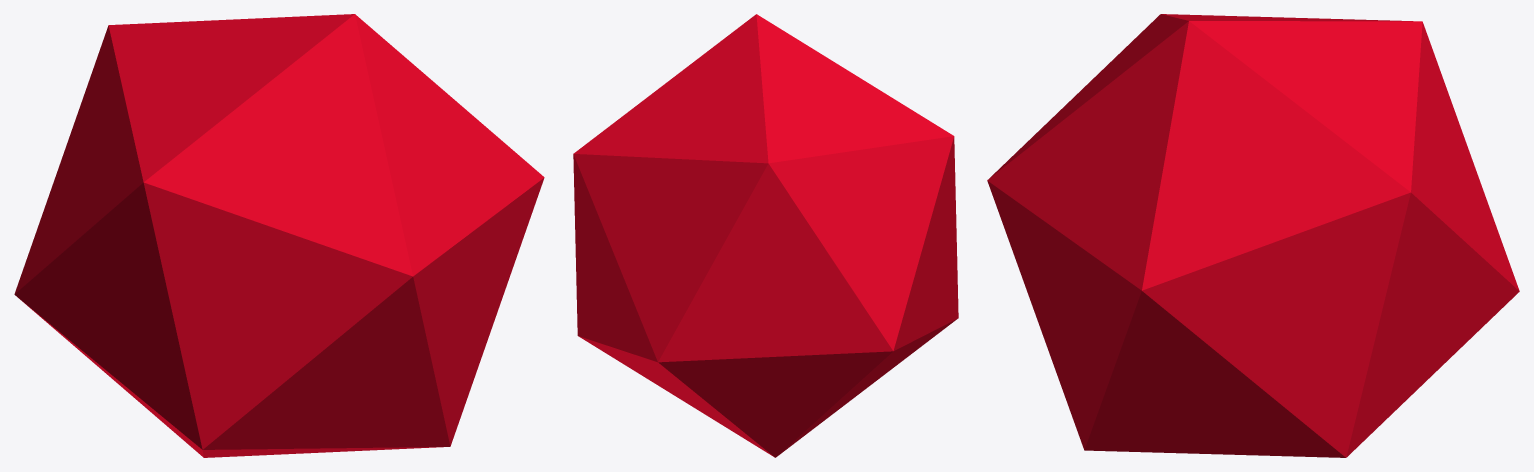
Rendered from ast_dice.fbx.
The picture shows the model from 3 angles, left to right: view 1: azimuth 30°, elevation 25°; view 2: azimuth 150°, elevation 25°; view 3: azimuth 270°, elevation 25°; orthographic projection. The views are drawn at different scales.
Visible parts, largest first — view 1: Icosphere; view 2: Icosphere; view 3: Icosphere.
Part boxes in pixels (x1,y1,x2,y2): Icosphere: [14, 14, 544, 457]; Icosphere: [573, 14, 958, 457]; Icosphere: [987, 14, 1519, 457].
Bounding box in the file's own units: 178 × 191 × 195.
